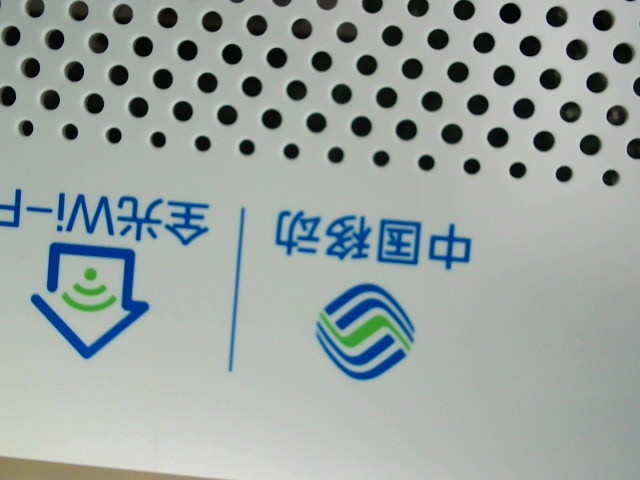BJ_QuanGuangMobile: (6, 165, 487, 380)
